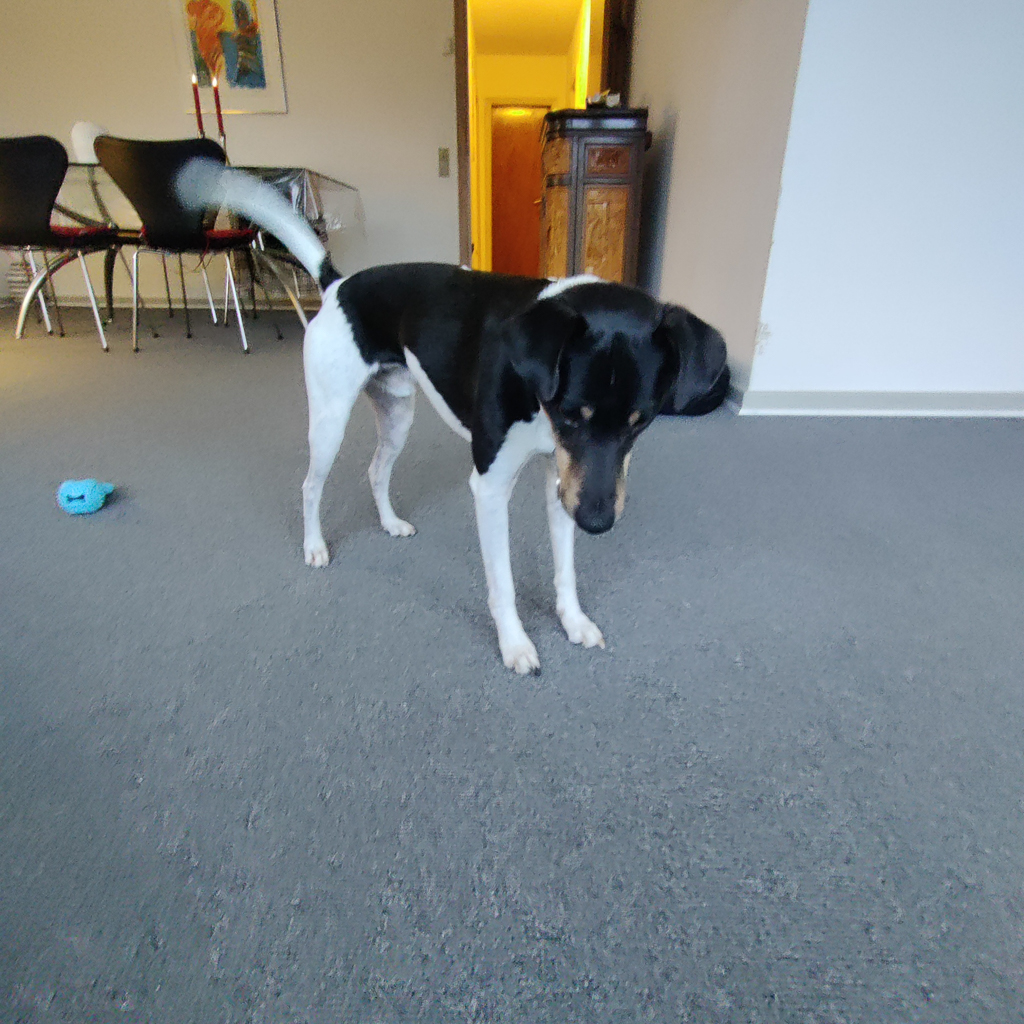Dog: (145, 142, 753, 704)
